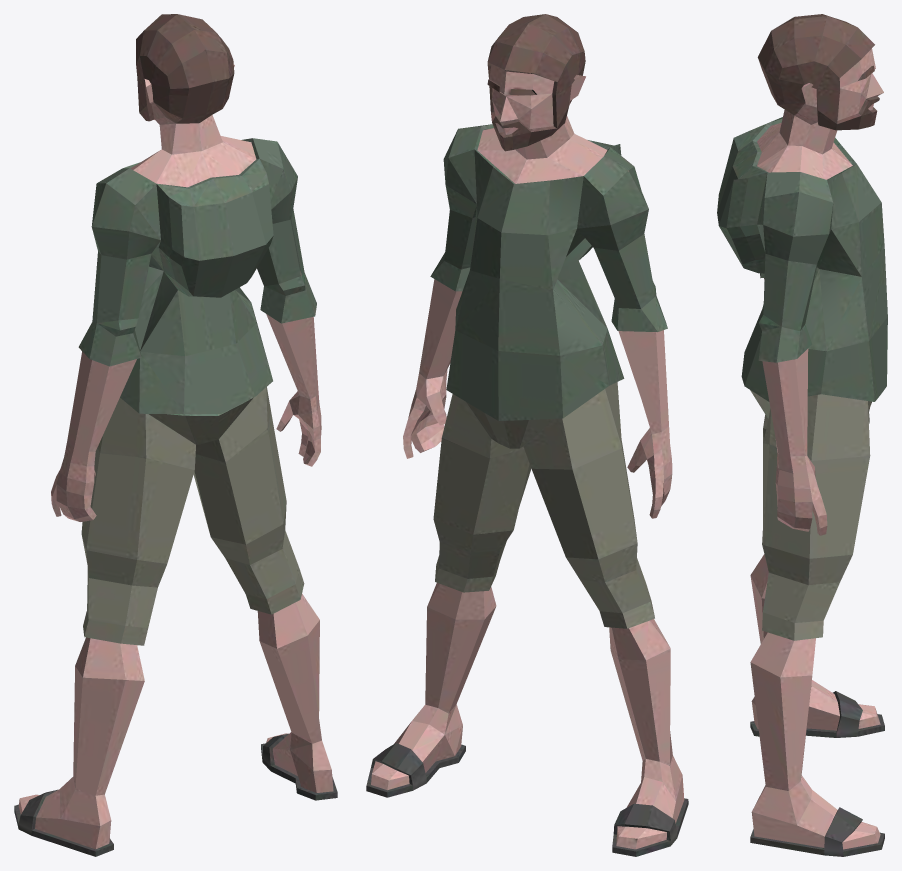
File: inf_civ_3.glb
3 views of the same model, side by side, from view 1: azimuth 30°, elevation 25°; view 2: azimuth 150°, elevation 25°; view 3: azimuth 270°, elevation 25° (orthographic). The views are drawn at different scales.
Parts seen in each view (by area): view 1: inf_civ_3; view 2: inf_civ_3; view 3: inf_civ_3.
Boxes of the visible parts, box(x1,y1,x2,y2) form: inf_civ_3: box(14, 14, 337, 856); inf_civ_3: box(366, 14, 688, 856); inf_civ_3: box(717, 14, 887, 856).
Size of the model in its own units: 0.691 by 1.72 by 0.3464.
1 material, 1 textured.
